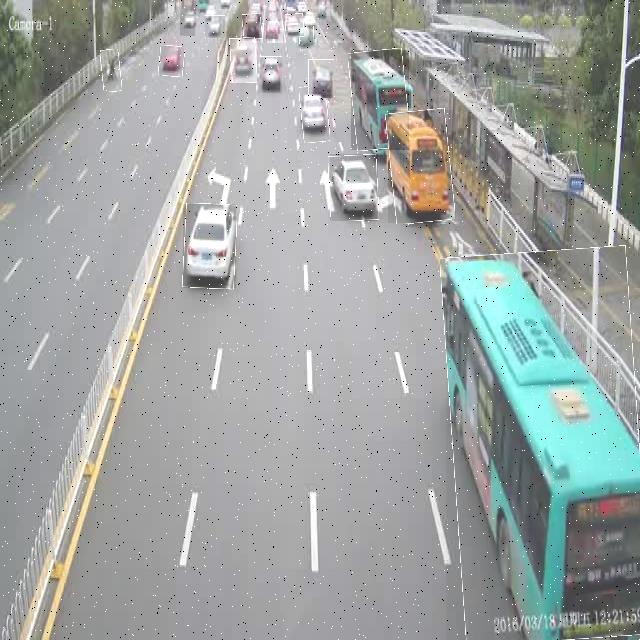Bus: (446, 248, 640, 640), (388, 110, 453, 223), (351, 50, 409, 150)
Car: (183, 204, 236, 288), (330, 154, 378, 221), (301, 86, 329, 142), (230, 38, 257, 83), (308, 59, 333, 98), (260, 56, 282, 93), (159, 46, 185, 76), (180, 0, 196, 36), (242, 14, 262, 39), (300, 18, 314, 51), (205, 15, 225, 38), (286, 14, 304, 37), (267, 21, 283, 43)
Motorcycle: (101, 50, 121, 92)
